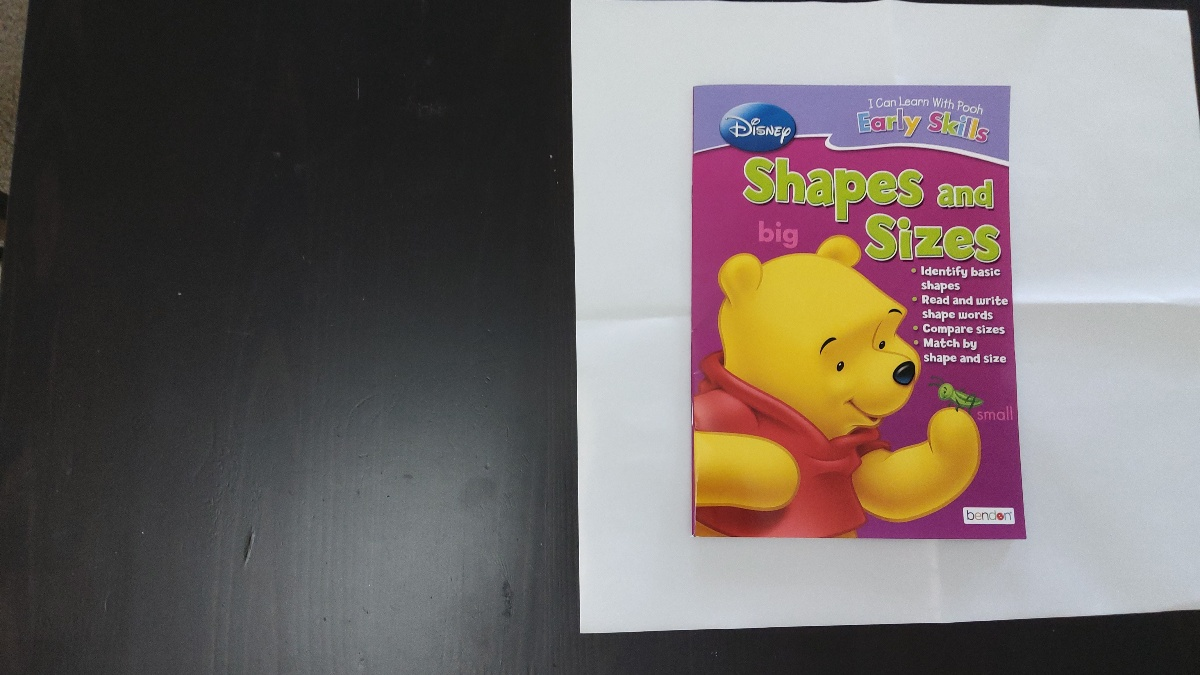book: (695, 87, 1023, 538)
